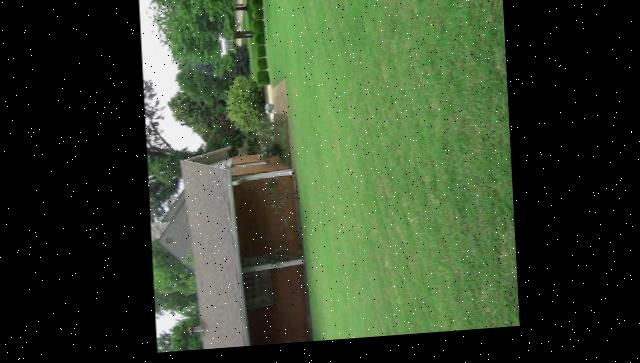drone: (215, 37, 231, 63)
